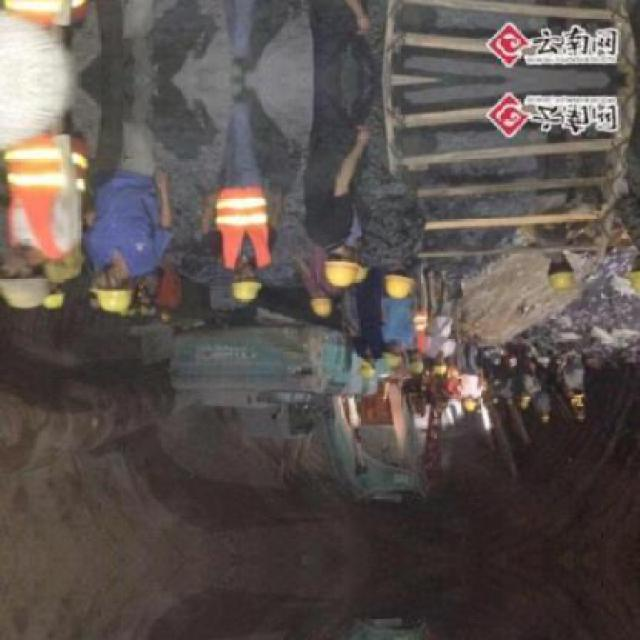con casco: (64, 212, 189, 328), (297, 204, 405, 299), (0, 220, 91, 317), (358, 253, 462, 309), (204, 240, 284, 312), (524, 244, 599, 299)
